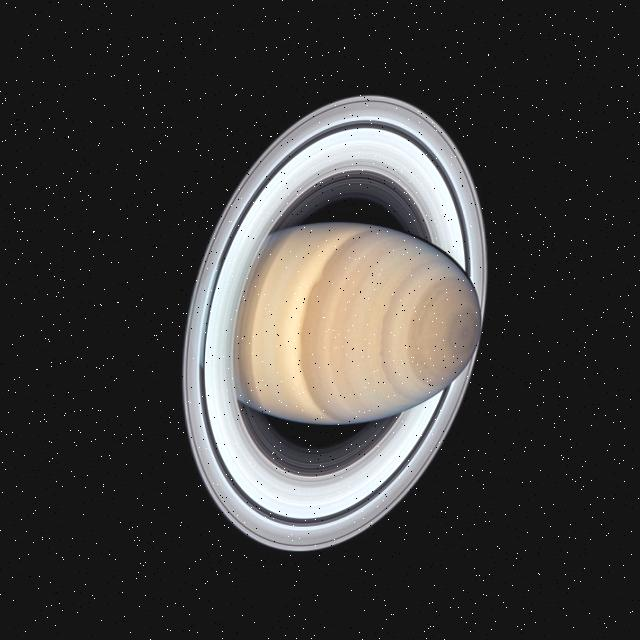Saturn: (180, 94, 488, 553)
